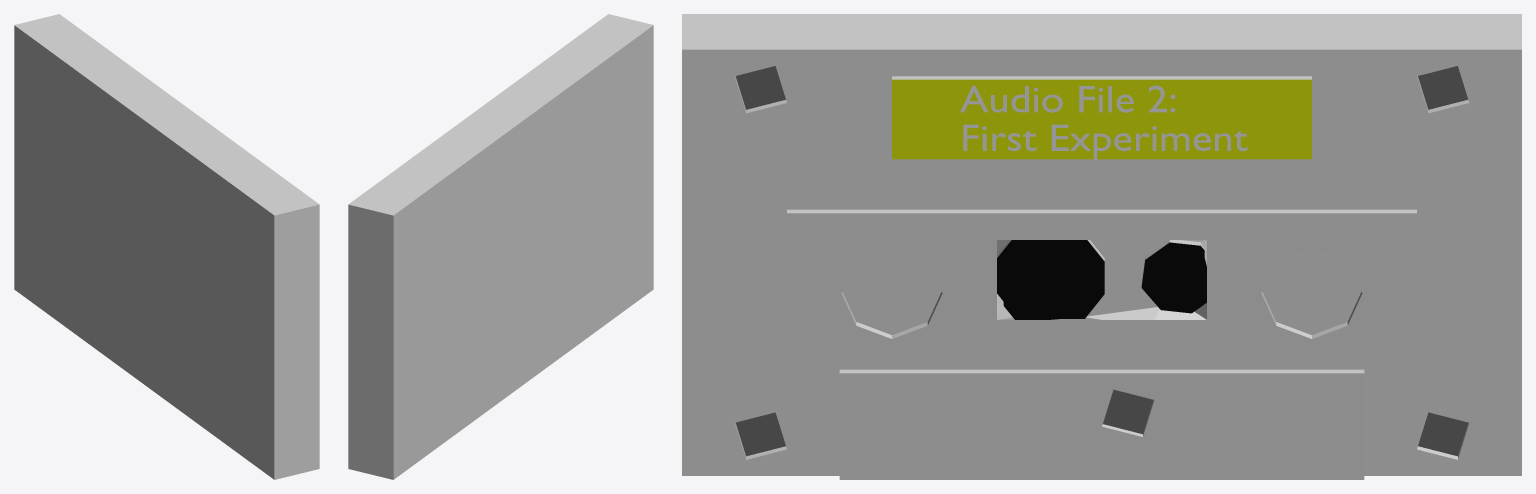
File: Cassette Tape 2.fbx
3 views of the same model, side by side, from view 1: azimuth 30°, elevation 25°; view 2: azimuth 150°, elevation 25°; view 3: azimuth 270°, elevation 25° (orthographic). The views are drawn at different scales.
Visible parts, largest first — view 1: Cube; view 2: Cube; view 3: Cube, Text.
Part boxes in pixels (box(x1,y1,x2,y2)): Cube: box(14, 14, 319, 479); Cube: box(348, 14, 653, 479); Cube: box(682, 14, 1521, 479); Text: box(960, 85, 1247, 159).
Size of the model in its own units: 65.87 by 331 by 591.
